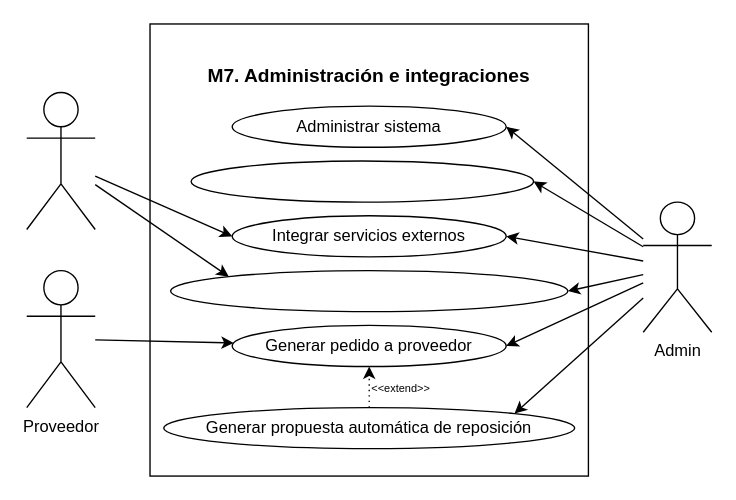
Some shapes in this 736 by 500 pixel diagram are drawn without their labels. Here are the shapes that lost their labels. From the top down, the centre of each, then its label:
the point at 60,160: N8N
the point at 362,181: Consultar información operativa
the point at 368,290: Sincronizar con sistemas de gestión comercial
